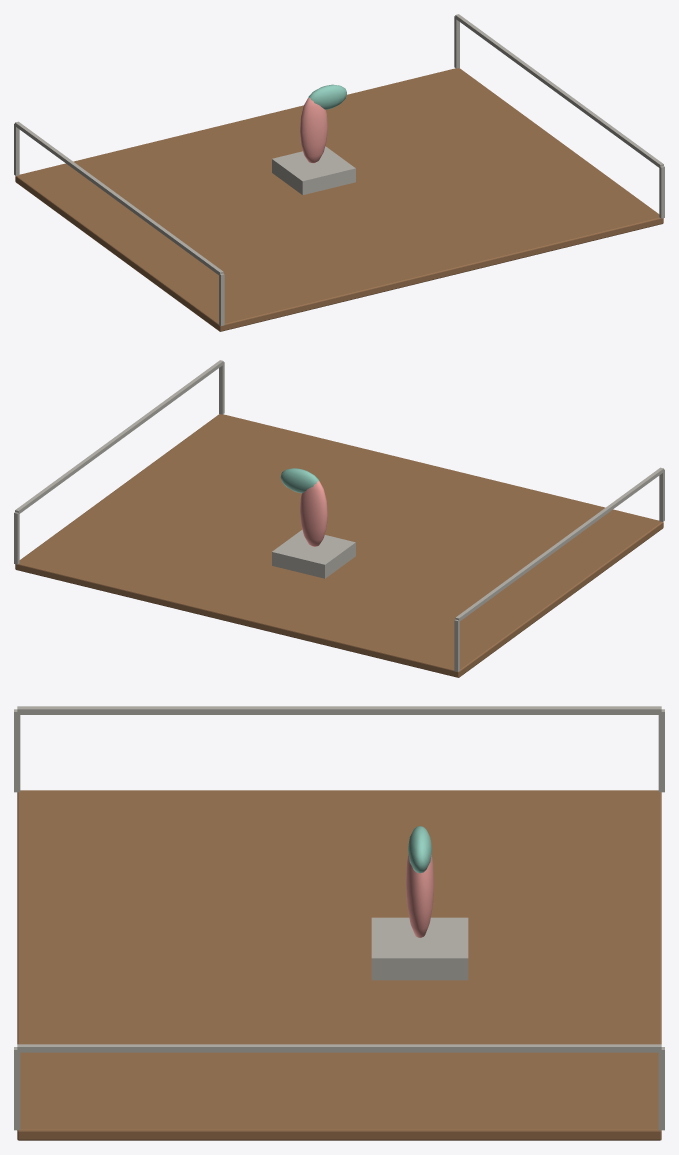
The model's file is GamcheonObservatory_blockout.glb.
3 renders of one model, top to bottom at view 1: azimuth 30°, elevation 25°; view 2: azimuth 150°, elevation 25°; view 3: azimuth 270°, elevation 25°, orthographic. The views are drawn at different scales.
Parts seen in each view (by area): view 1: ENV03_GamcheonObservatory_DeckFloor_L0, ENV03_GamcheonObservatory_Plinth_L0, ENV03_GamcheonObservatory_DeckRail2_L0, ENV03_GamcheonObservatory_DeckRail0_L0, ENV03_GamcheonObservatory_OriginalWindA_L0, ENV03_GamcheonObservatory_OriginalWindB_L0; view 2: ENV03_GamcheonObservatory_DeckFloor_L0, ENV03_GamcheonObservatory_Plinth_L0, ENV03_GamcheonObservatory_DeckRail0_L0, ENV03_GamcheonObservatory_DeckRail2_L0, ENV03_GamcheonObservatory_OriginalWindA_L0, ENV03_GamcheonObservatory_OriginalWindB_L0; view 3: ENV03_GamcheonObservatory_DeckFloor_L0, ENV03_GamcheonObservatory_Plinth_L0, ENV03_GamcheonObservatory_DeckRail2_L0, ENV03_GamcheonObservatory_DeckRail0_L0, ENV03_GamcheonObservatory_OriginalWindA_L0, ENV03_GamcheonObservatory_OriginalWindB_L0.
Boxes of the visible parts, left/top/right/bottom form: ENV03_GamcheonObservatory_DeckFloor_L0: left=15, top=68, right=663, bottom=331; ENV03_GamcheonObservatory_Plinth_L0: left=272, top=146, right=355, bottom=195; ENV03_GamcheonObservatory_DeckRail2_L0: left=455, top=14, right=663, bottom=167; ENV03_GamcheonObservatory_DeckRail0_L0: left=15, top=121, right=223, bottom=275; ENV03_GamcheonObservatory_OriginalWindA_L0: left=300, top=97, right=327, bottom=163; ENV03_GamcheonObservatory_OriginalWindB_L0: left=308, top=84, right=346, bottom=109; ENV03_GamcheonObservatory_DeckFloor_L0: left=15, top=414, right=663, bottom=677; ENV03_GamcheonObservatory_Plinth_L0: left=272, top=530, right=355, bottom=578; ENV03_GamcheonObservatory_DeckRail0_L0: left=455, top=467, right=663, bottom=620; ENV03_GamcheonObservatory_DeckRail2_L0: left=15, top=360, right=223, bottom=513; ENV03_GamcheonObservatory_OriginalWindA_L0: left=300, top=481, right=327, bottom=546; ENV03_GamcheonObservatory_OriginalWindB_L0: left=280, top=468, right=318, bottom=493; ENV03_GamcheonObservatory_DeckFloor_L0: left=17, top=790, right=661, bottom=1140; ENV03_GamcheonObservatory_Plinth_L0: left=371, top=917, right=468, bottom=980; ENV03_GamcheonObservatory_DeckRail2_L0: left=17, top=1044, right=661, bottom=1052; ENV03_GamcheonObservatory_DeckRail0_L0: left=17, top=706, right=661, bottom=714; ENV03_GamcheonObservatory_OriginalWindA_L0: left=406, top=854, right=433, bottom=937; ENV03_GamcheonObservatory_OriginalWindB_L0: left=408, top=826, right=431, bottom=873.
Bounding box in the file's own units: 10 × 2.05 × 8.08.
